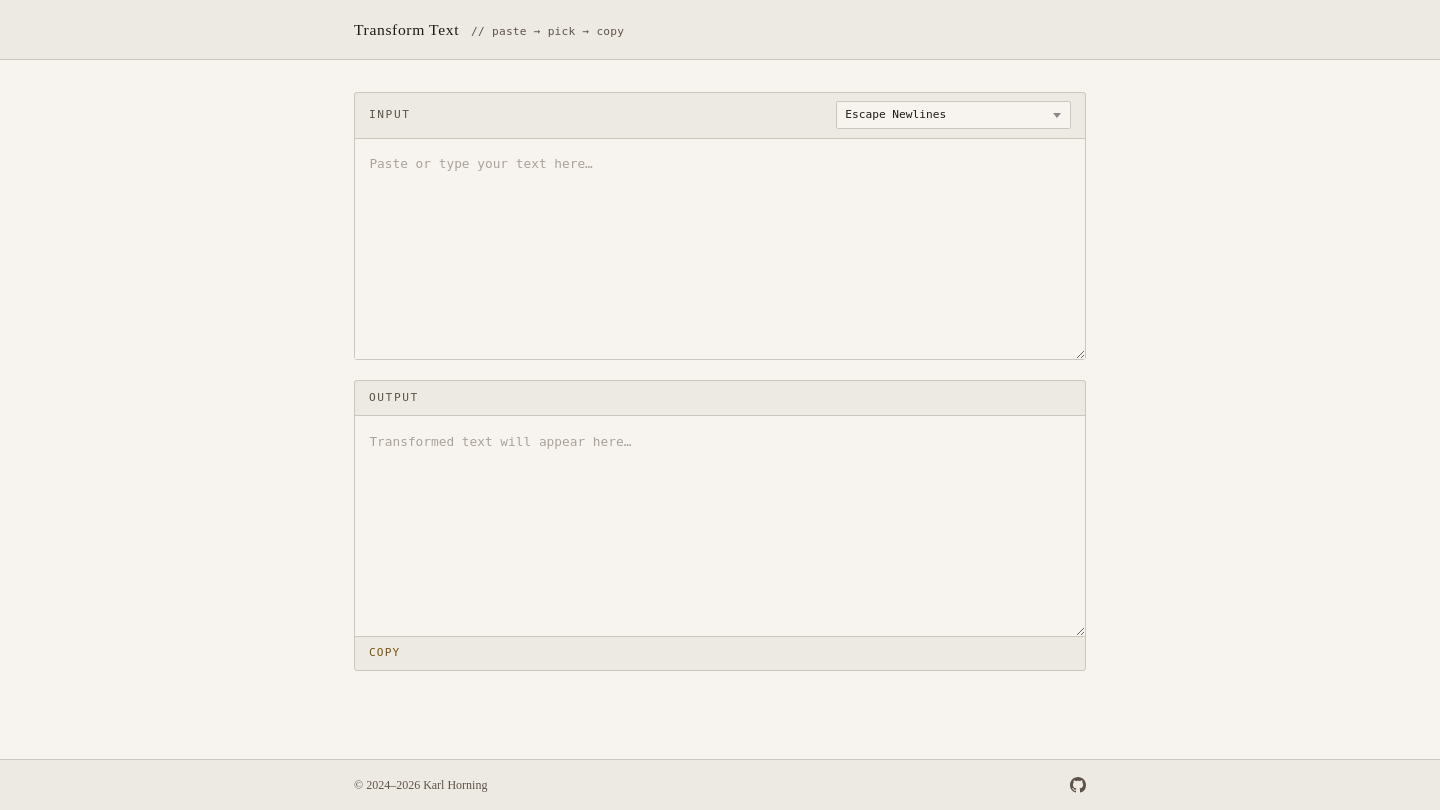
Test: App › transforms input text live as the user types
The image size is (1440, 810).
Select "Uppercase" in the dropdown at (954, 115), box [836,101,1071,129]
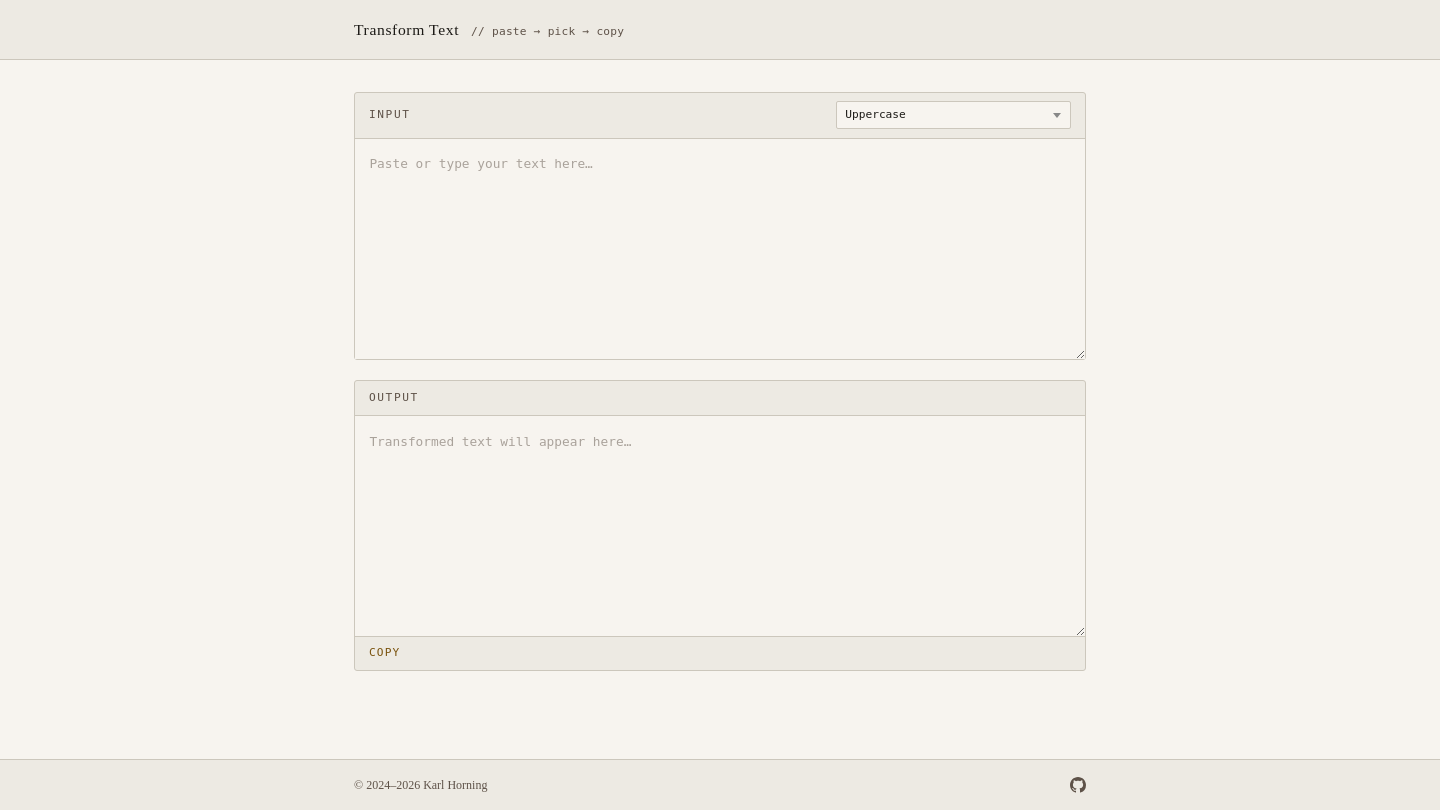
Type "hello" into the text box named "input text" at (720, 249), box [355,139,1085,359]
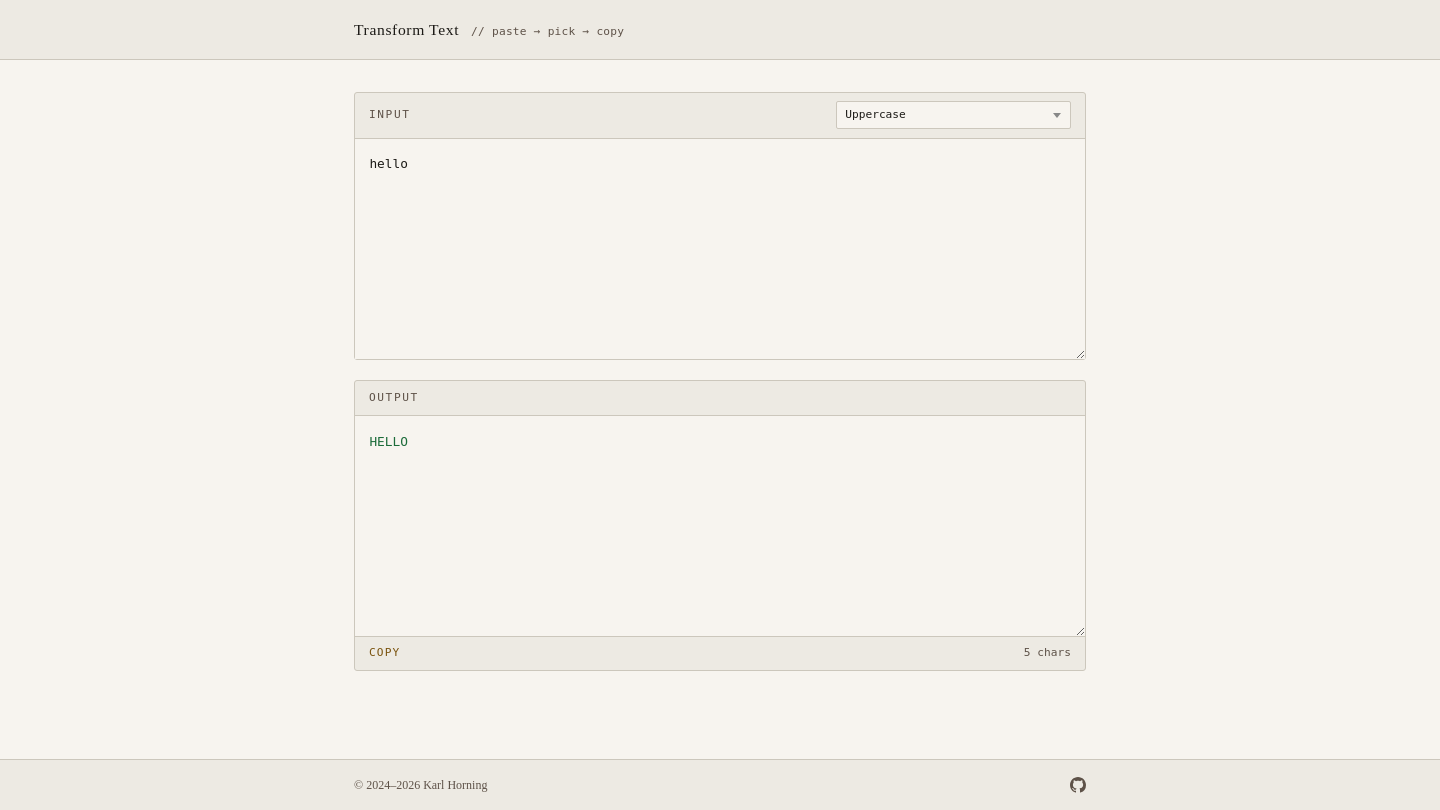
Expected: the text box named "transformed output" holds "HELLO", [355,416,1085,636]
